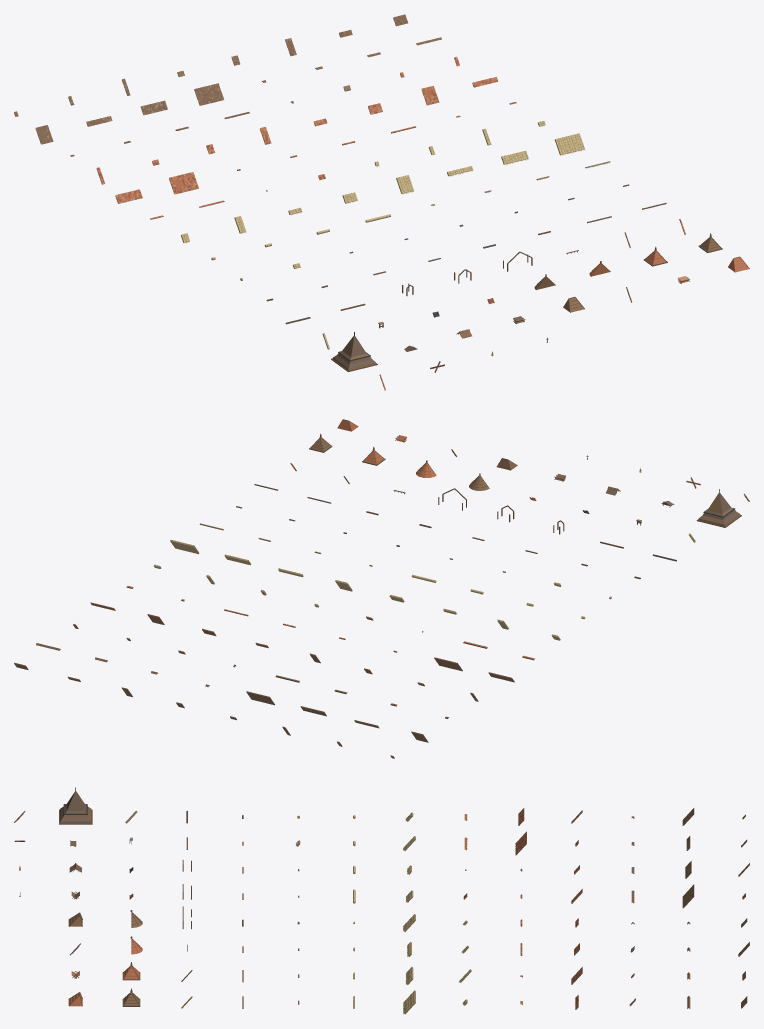
File: roofs.glb
3 views of the same model, one above another, from view 1: azimuth 30°, elevation 25°; view 2: azimuth 150°, elevation 25°; view 3: azimuth 270°, elevation 25° (orthographic). The views are drawn at different scales.
Parts seen in each view (by area): view 1: GK_roof_shingle_belfry_ogee_4m; view 2: GK_roof_shingle_belfry_ogee_4m; view 3: GK_roof_shingle_belfry_ogee_4m.
Part boxes in pixels (x1=…): GK_roof_shingle_belfry_ogee_4m: x1=331, y1=332, x2=377, y2=371; GK_roof_shingle_belfry_ogee_4m: x1=696, y1=489, x2=741, y2=527; GK_roof_shingle_belfry_ogee_4m: x1=59, y1=787, x2=92, y2=824.
Size of the model in its own units: 67.45 by 5.71 by 106.
